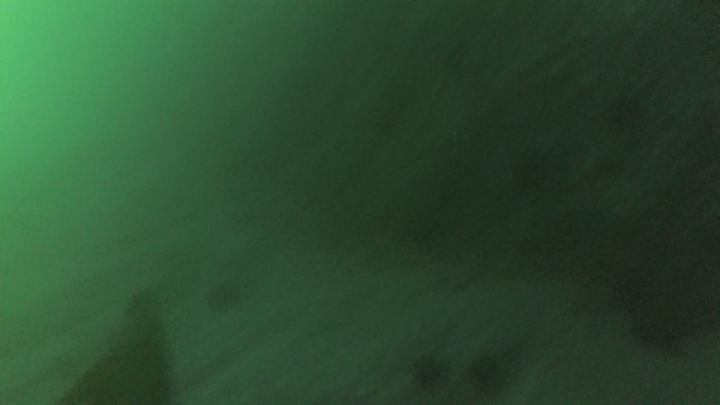echinus: (461, 349, 510, 403), (405, 348, 448, 393), (206, 277, 242, 315)
